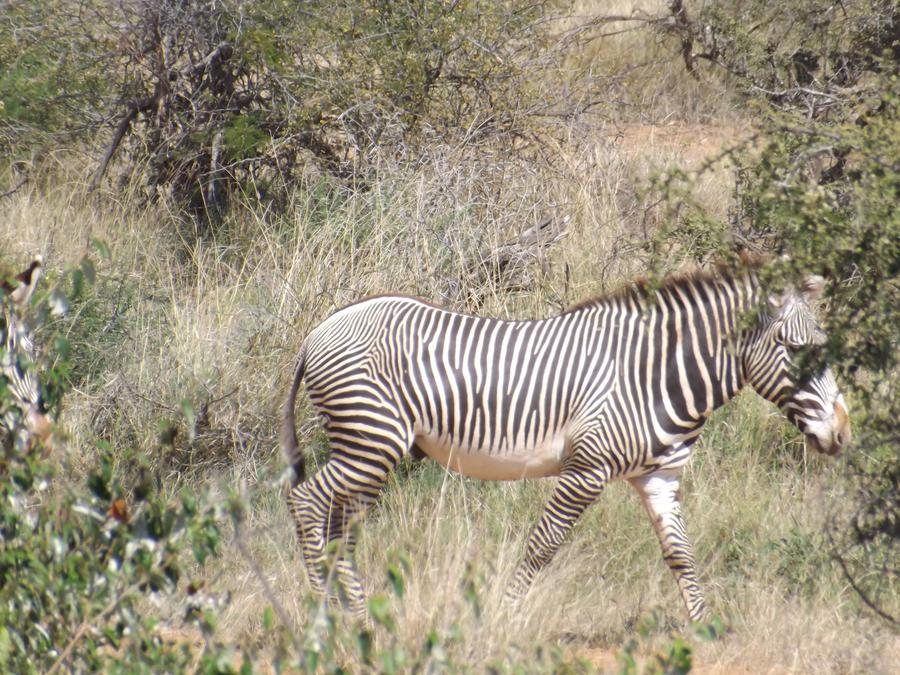zebra_grevys: (294, 268, 659, 478)
